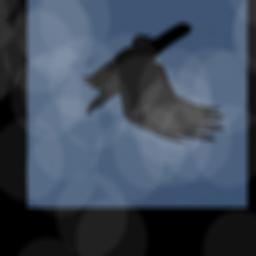Crow: (80, 22, 225, 144)
